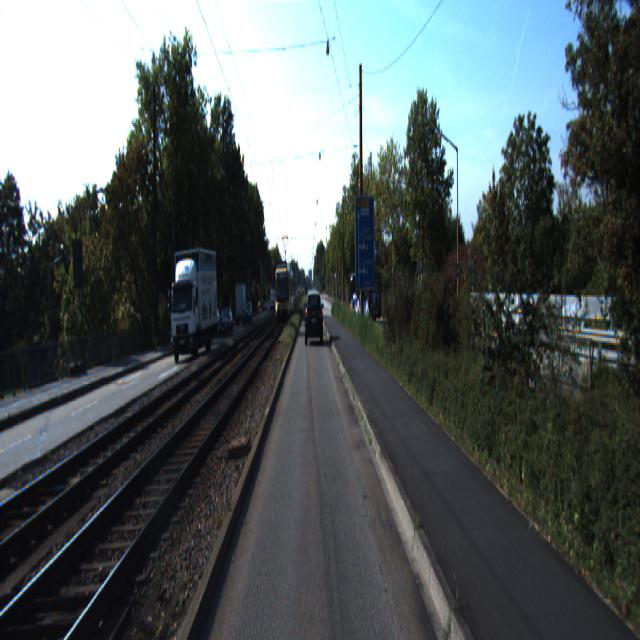Car: (167, 242, 218, 362), (350, 270, 382, 322), (306, 289, 322, 344)
